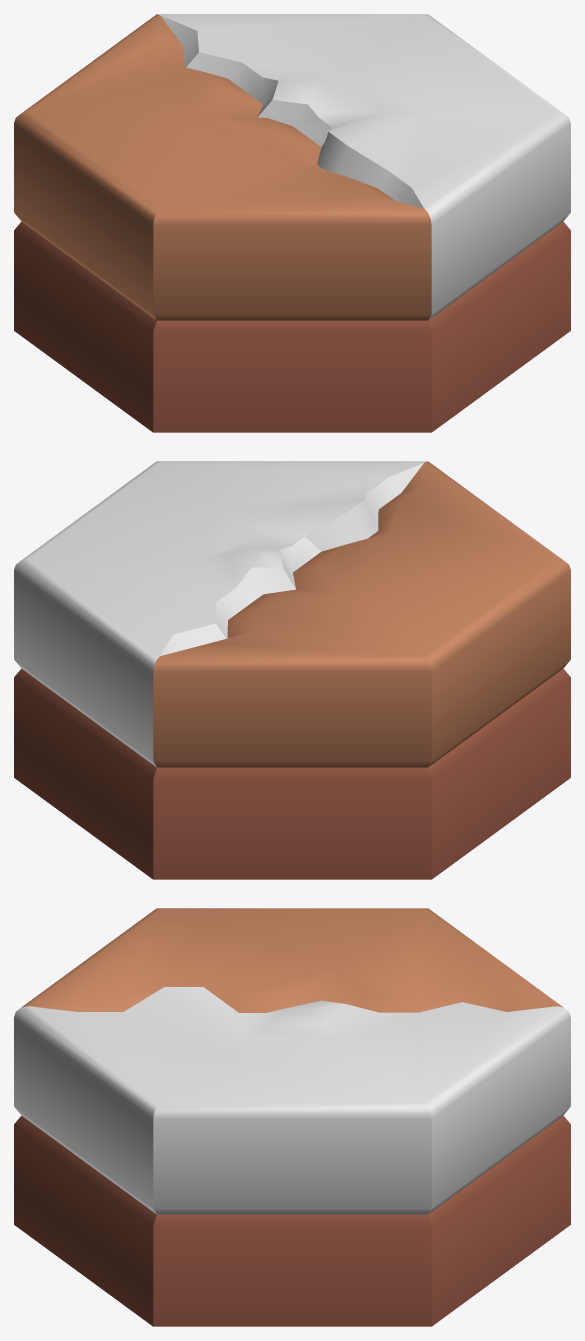
The model's file is kaykit-hex-rock-transitionb.glb.
The picture shows the model from 3 angles, top to bottom: view 1: azimuth 30°, elevation 25°; view 2: azimuth 150°, elevation 25°; view 3: azimuth 270°, elevation 25°; orthographic projection.
Visible parts, largest first — view 1: hex_rock_transitionB; view 2: hex_rock_transitionB; view 3: hex_rock_transitionB.
Part boxes in pixels (x1,y1,x2,y2): hex_rock_transitionB: (14, 14, 570, 432); hex_rock_transitionB: (14, 461, 570, 879); hex_rock_transitionB: (14, 908, 570, 1326).
Size of the model in its own units: 2 by 1.07 by 2.31.
